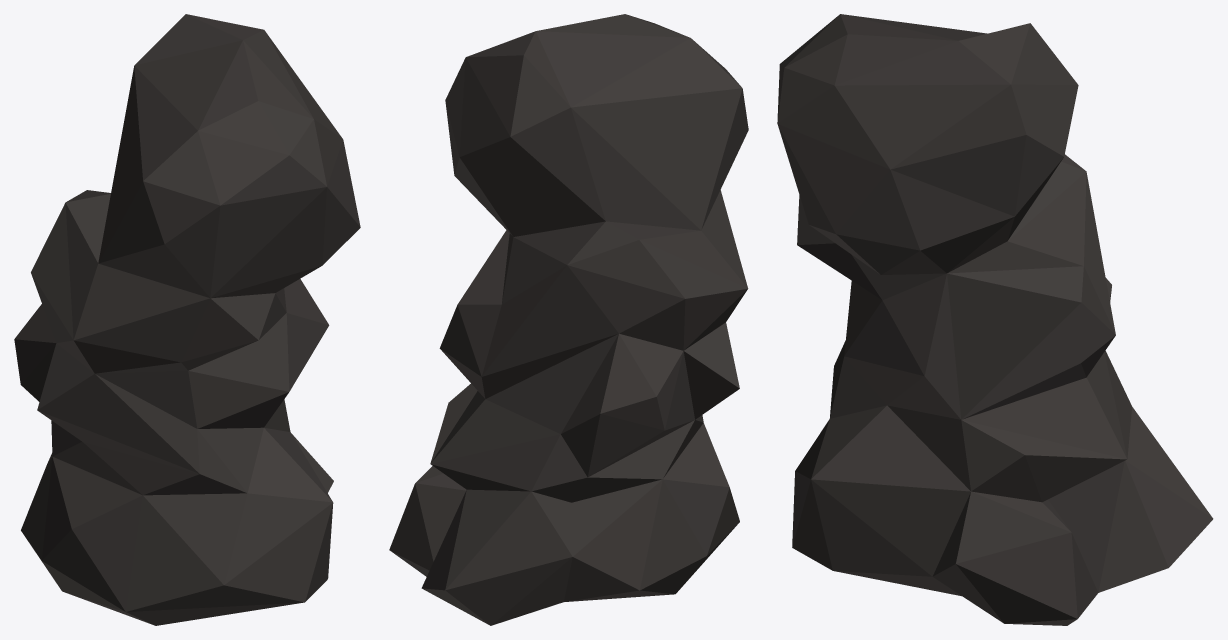
Rendered from Rock_9_LOD_1.fbx.
The picture shows the model from 3 angles, left to right: view 1: azimuth 30°, elevation 25°; view 2: azimuth 150°, elevation 25°; view 3: azimuth 270°, elevation 25°; orthographic projection. The views are drawn at different scales.
Visible parts, largest first — view 1: Group11939; view 2: Group11939; view 3: Group11939.
Part boxes in pixels (left/top/right/bottom): Group11939: left=14, top=14, right=360, bottom=625; Group11939: left=389, top=14, right=748, bottom=625; Group11939: left=777, top=14, right=1213, bottom=625.
Bounding box in the file's own units: 1.62 × 2.87 × 1.97.
